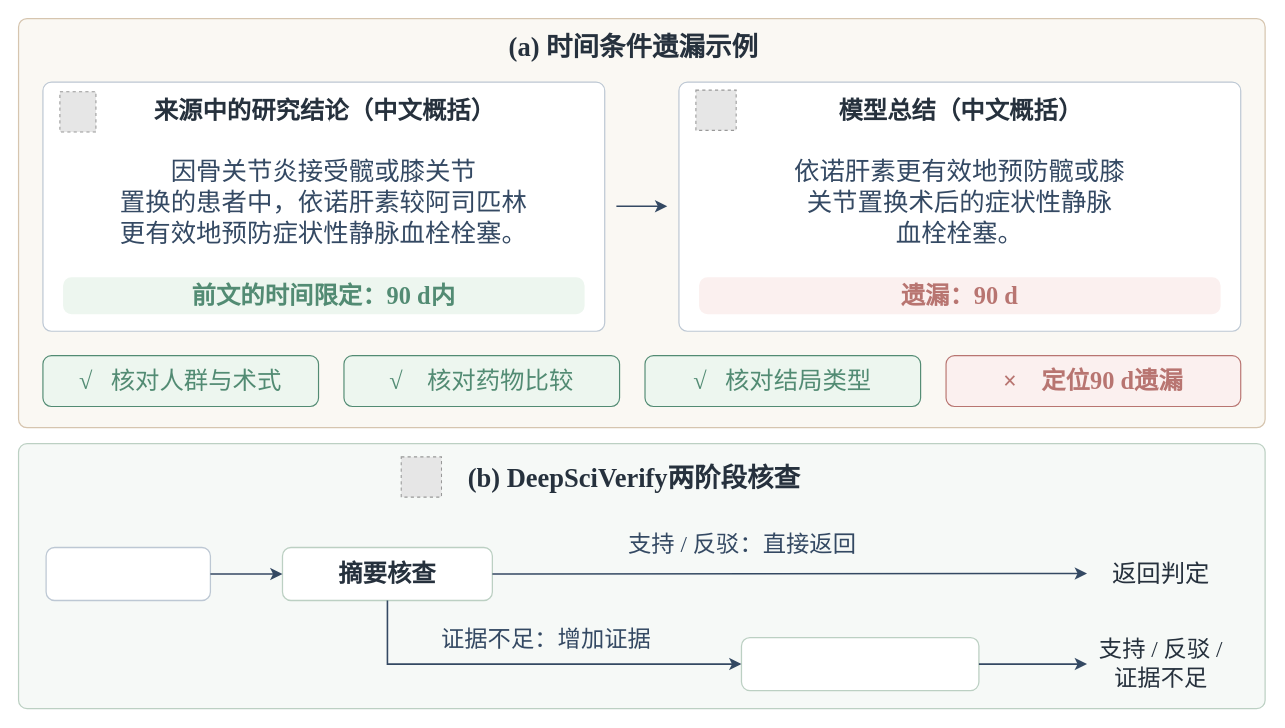
Image size: 1285x728. Some labels were removed from this diagram. Grey dashed boxes stand in for pictures. The shapes that lost their labels are listed below. From the top down, each one's box as (x1, y1, x2, y2) in pixels, then its label:
(45, 546, 211, 601): 主张＋引文
(740, 636, 979, 691): 全文片段核查
